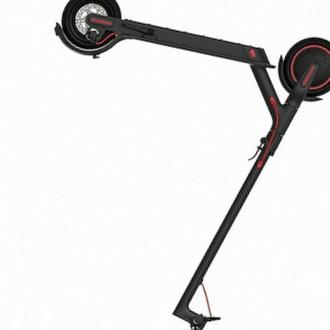scooter: (54, 1, 330, 330)
